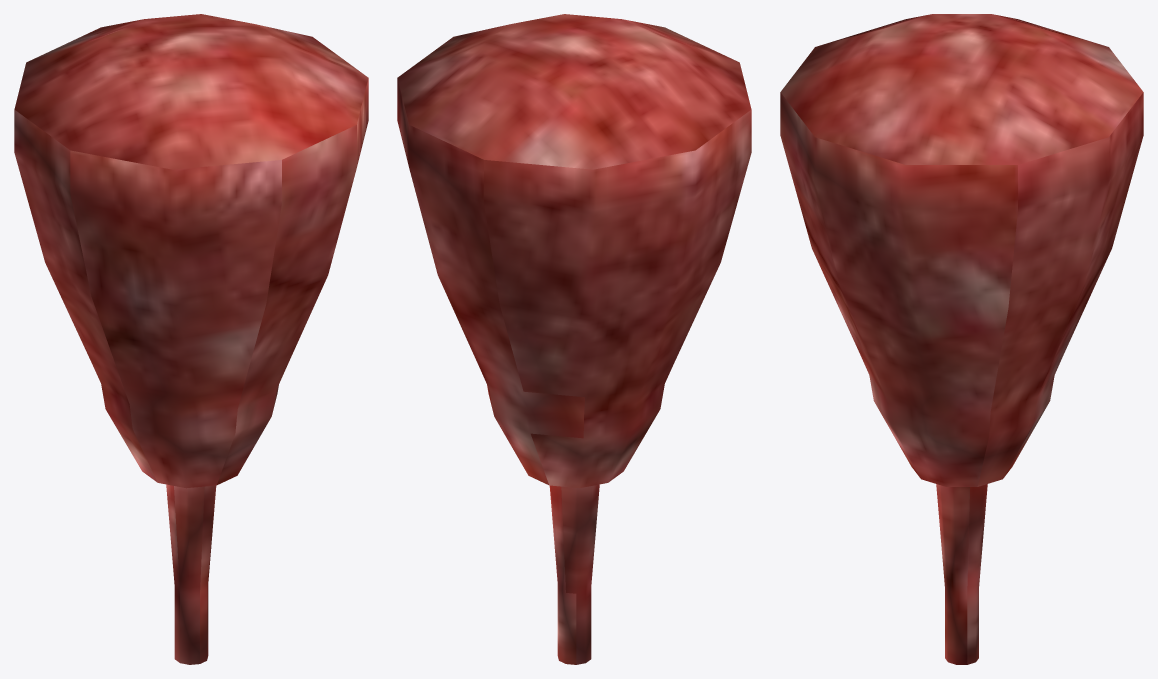
File: gib2.glb
The picture shows the model from 3 angles, left to right: view 1: azimuth 30°, elevation 25°; view 2: azimuth 150°, elevation 25°; view 3: azimuth 270°, elevation 25°; orthographic projection.
Visible parts, largest first — view 1: Sphere; view 2: Sphere; view 3: Sphere.
Boxes of the visible parts, box(x1,y1,x2,y2) form: Sphere: box(14, 14, 368, 664); Sphere: box(397, 14, 751, 664); Sphere: box(780, 14, 1143, 664).
Bounding box in the file's own units: 1.62 × 3.2 × 1.7.
Materials: 1 (1 with a texture image).
